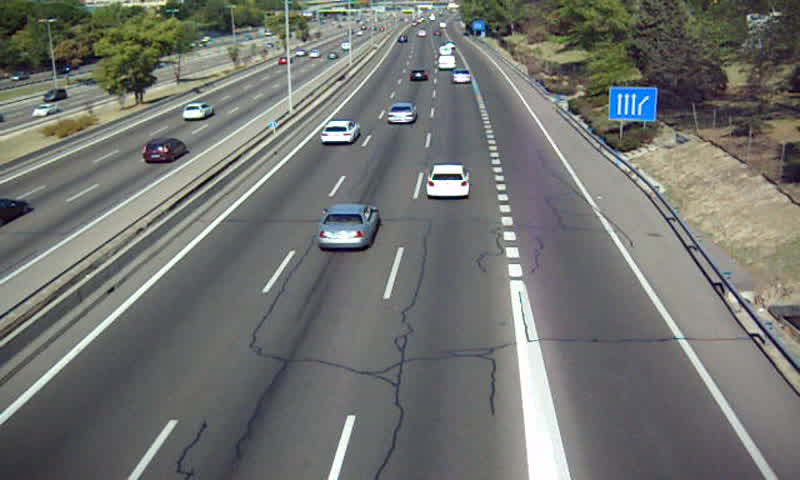car: (315, 204, 380, 250), (425, 164, 471, 200), (319, 120, 358, 146), (387, 103, 417, 126), (452, 68, 473, 85), (407, 68, 428, 83)
van: (437, 56, 457, 70), (440, 45, 454, 57)
